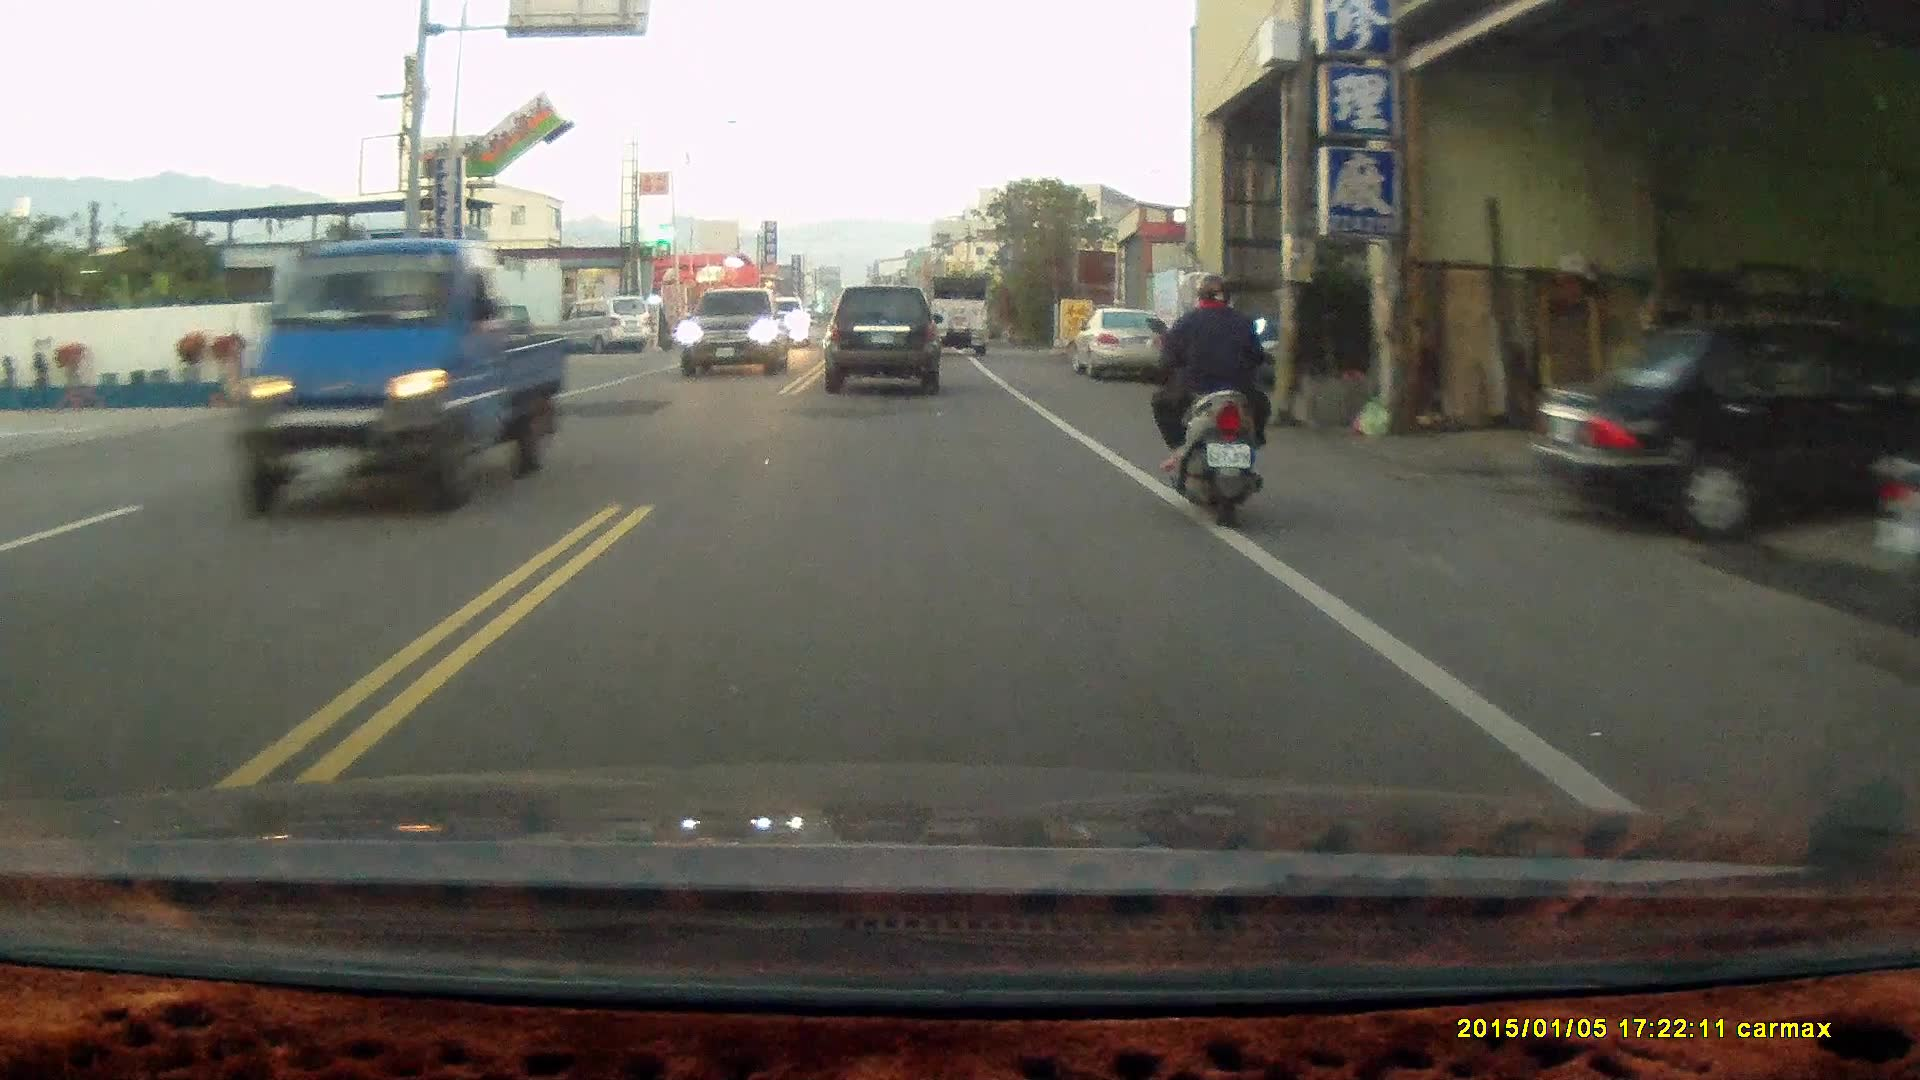rider: (1143, 265, 1271, 528)
vehicle: (1532, 306, 1920, 547), (236, 238, 571, 513), (827, 284, 942, 397), (683, 282, 796, 372), (1077, 308, 1165, 383), (926, 270, 995, 351), (559, 293, 653, 352)
